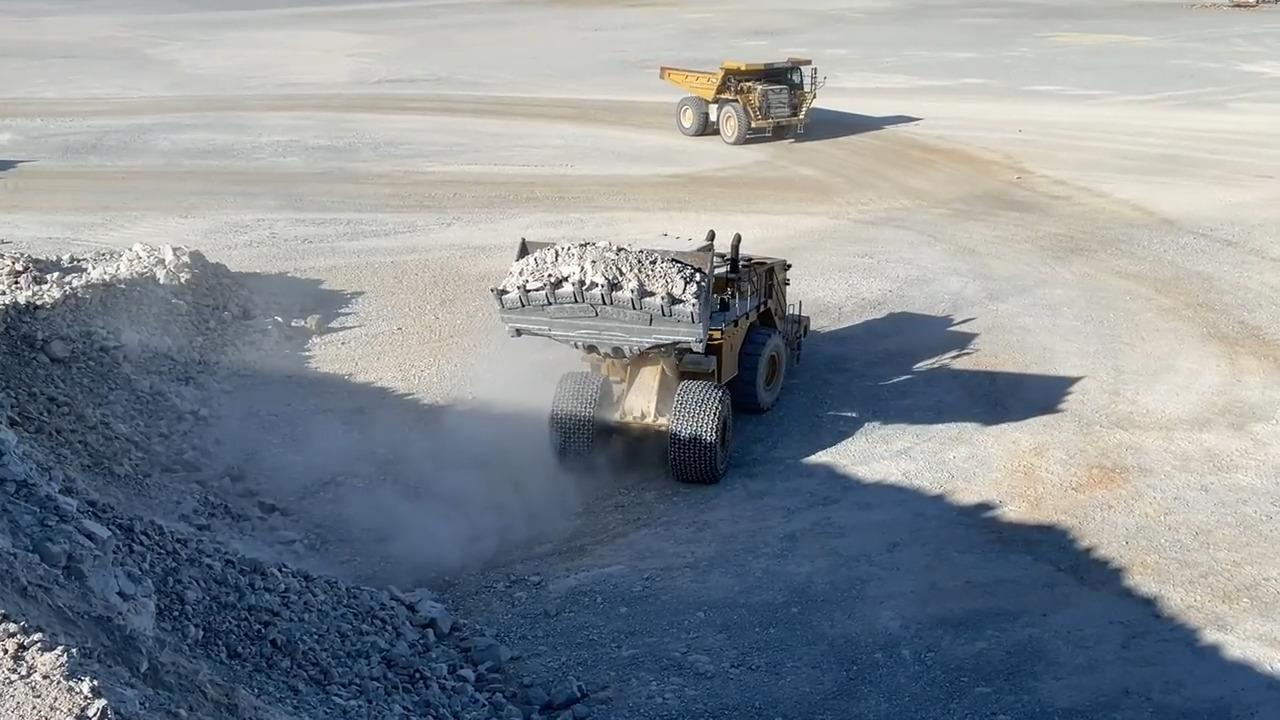dump truck: (654, 59, 823, 143)
wheel loader: (491, 227, 809, 499)
